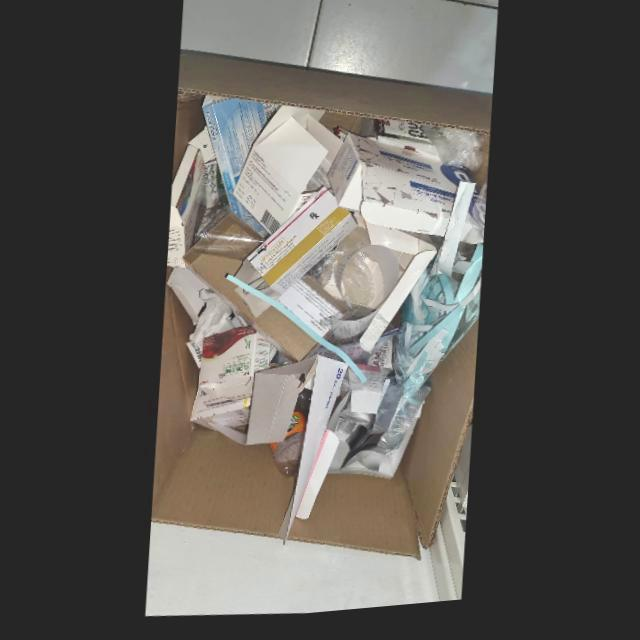aluminum: (333, 389, 430, 477)
cardboard: (326, 139, 474, 244), (231, 110, 342, 239), (234, 191, 358, 305), (232, 110, 342, 238), (201, 99, 275, 241), (165, 129, 218, 270), (196, 329, 269, 409), (188, 391, 249, 434)
paper: (187, 292, 232, 354)
plastic_bottle: (267, 415, 306, 483)
